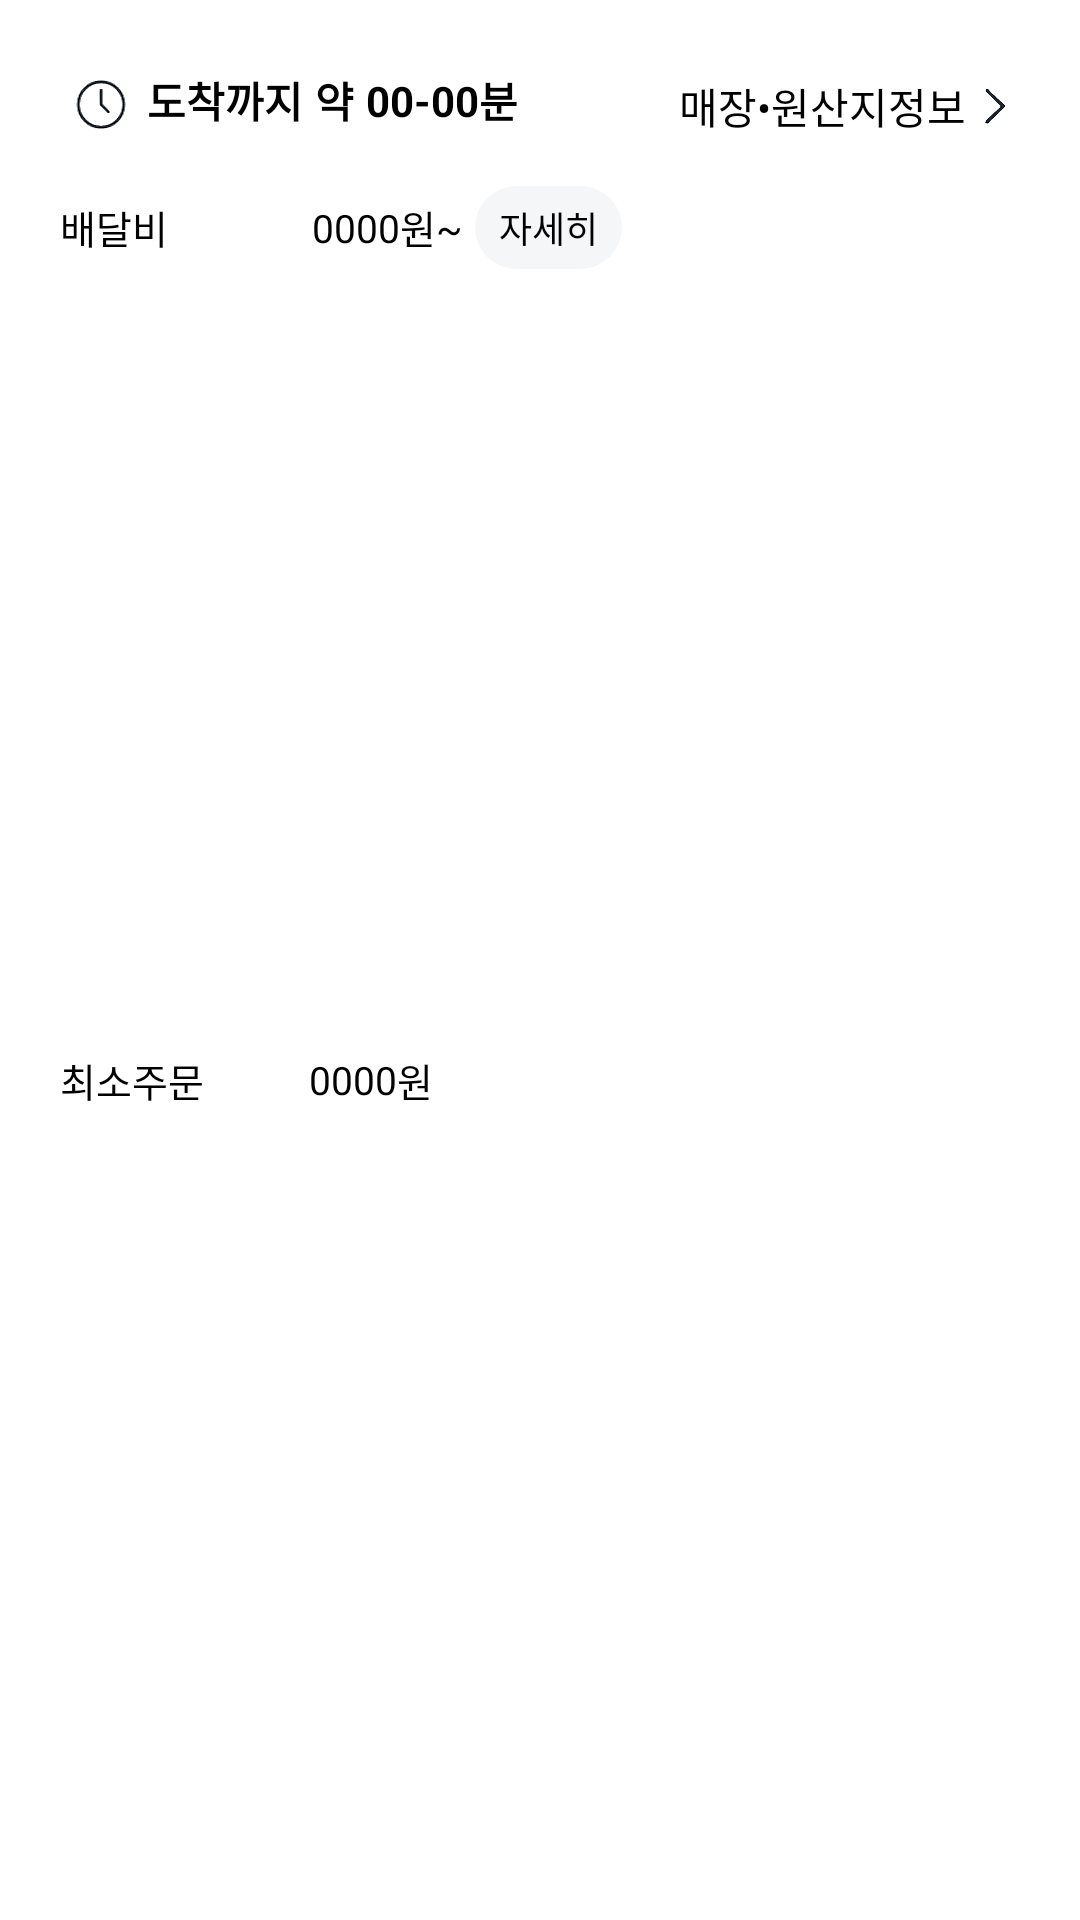

Where to tap for icons on this 1080w x 1920h app screen, as (x,y):
store time: (101,104)
